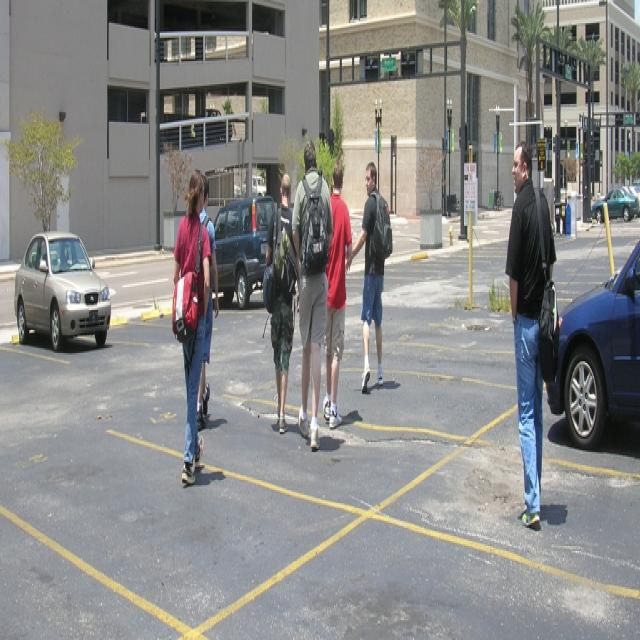car: (16, 228, 117, 343), (591, 178, 637, 221)
